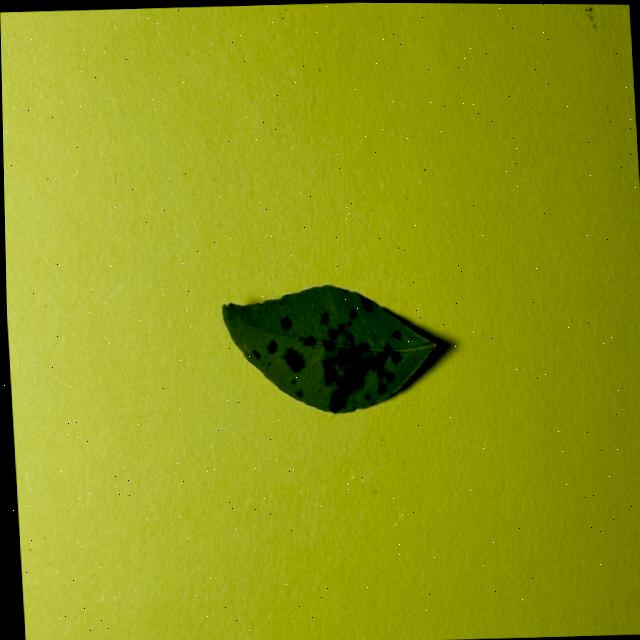sooty_mold: (222, 284, 435, 412)
